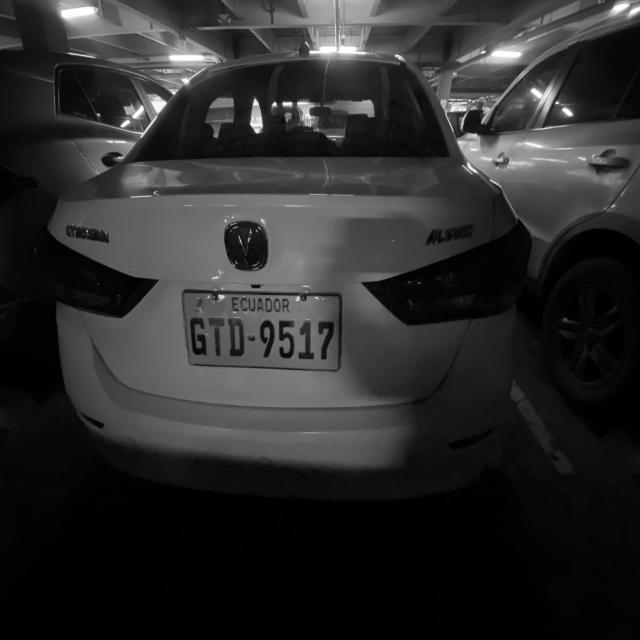Placa: (183, 291, 341, 370)
